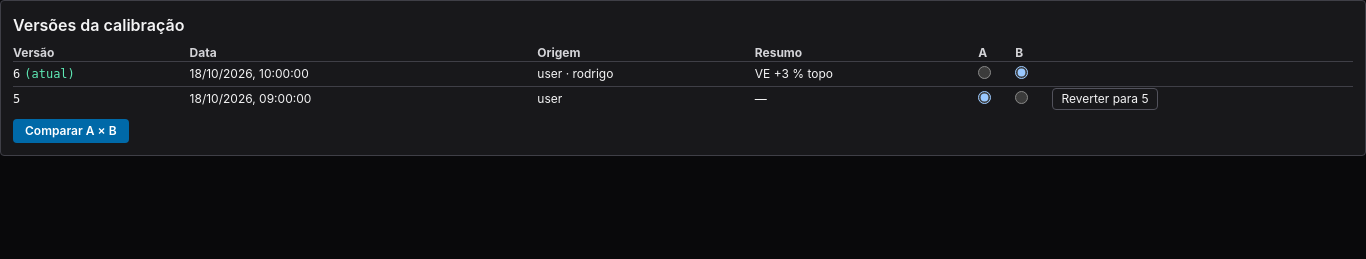
CalibrationVersions (RF-16) › duas versões que diferem em 3 células mostram '3 células alteradas' com antes → depois
The width and height of the screenshot is (1366, 259).
Expected: the number of rows is 3, [13, 45, 1353, 61]; [13, 62, 1353, 86]; [13, 86, 1353, 111]
What coordinates should you click on to do the following:
click the button "Comparar A × B"
I would click on:
 (71, 131)
Its box is [13, 119, 128, 143].
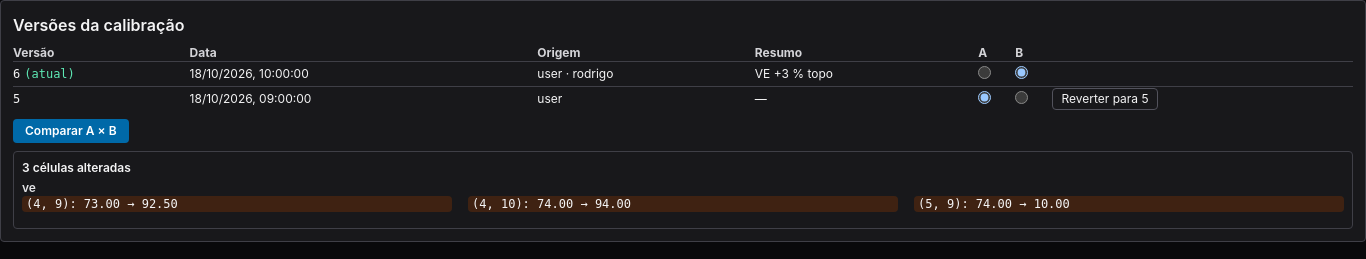
Now the text with test id "diff-summary" reads "3 células alteradas", box [22, 160, 131, 175]
Now the list item "(4, 9): 73.00 → 92.50" is shown, box [22, 196, 452, 212]
